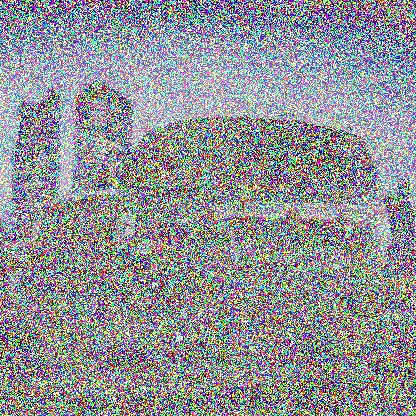Vehicle: (14, 108, 395, 392)
